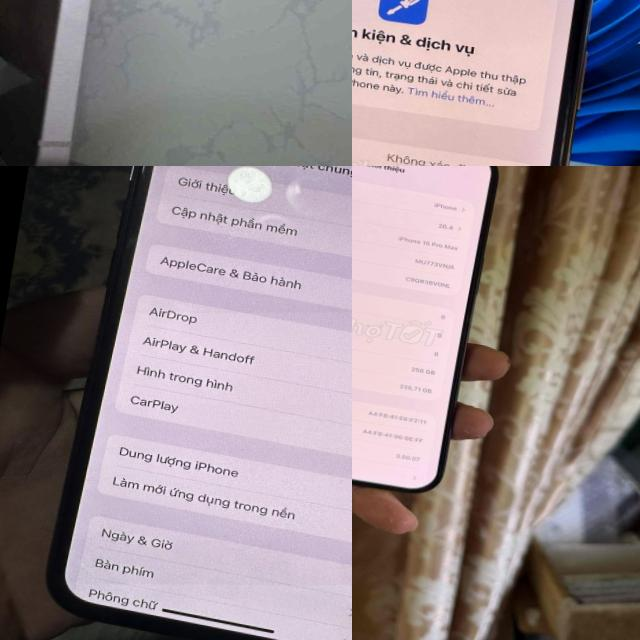screen_defect: (222, 166, 278, 208)
